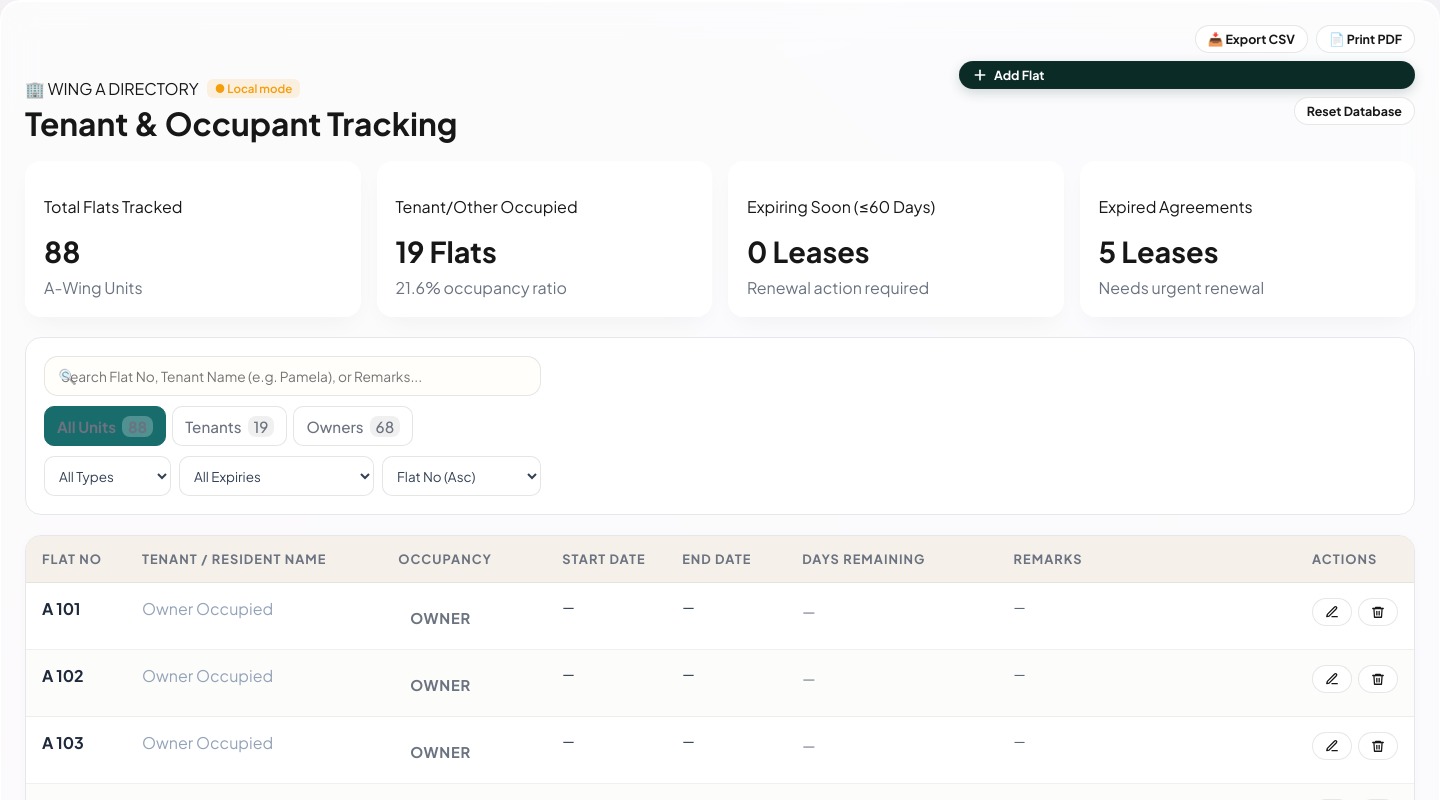
Test: TenantTracker - Admin Actions Modals › closes modal when cancel is clicked
The image size is (1440, 800).
Click the button "Add Flat" at [1019, 75], box [959, 61, 1415, 89]
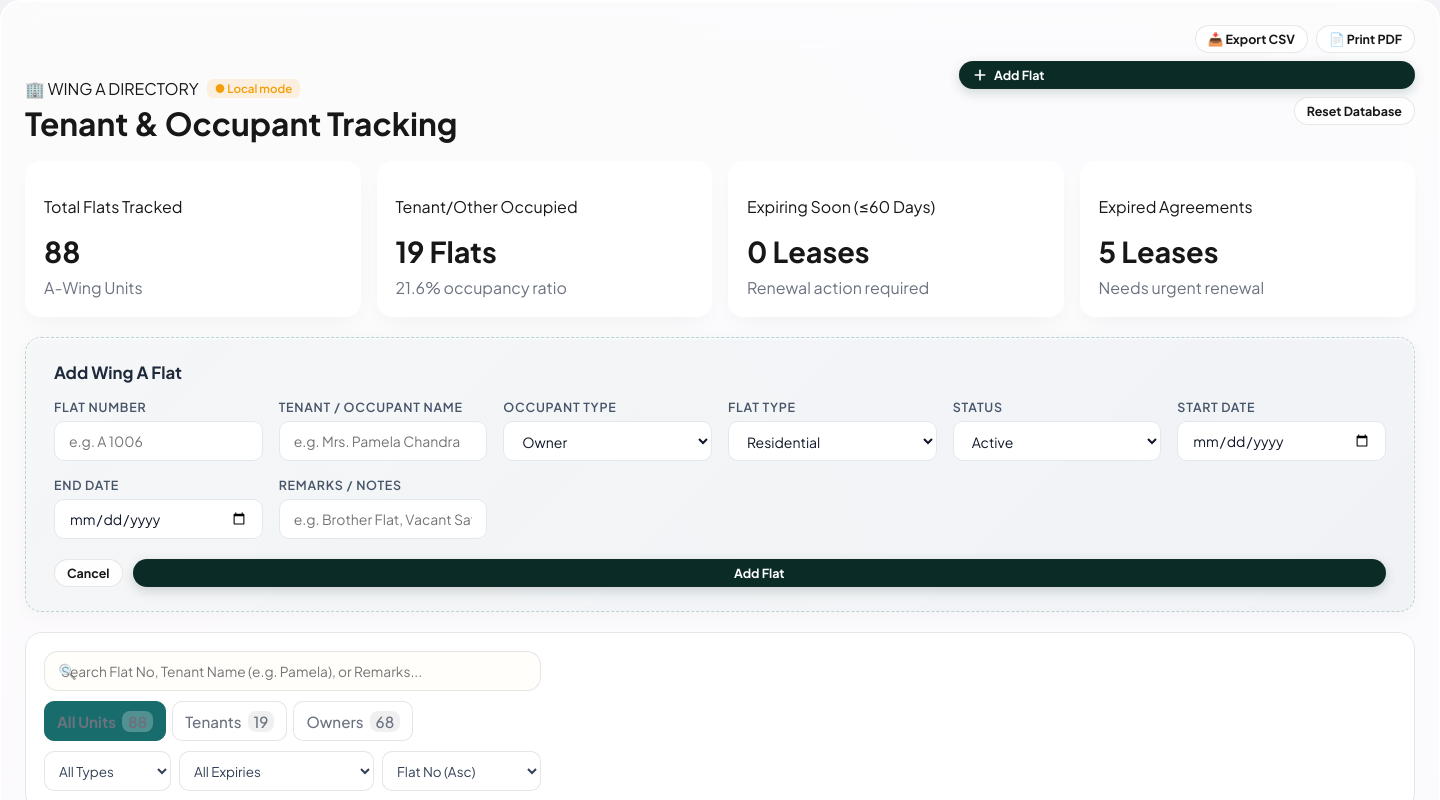
Click the button "Cancel" at [88, 573], box [54, 559, 122, 587]
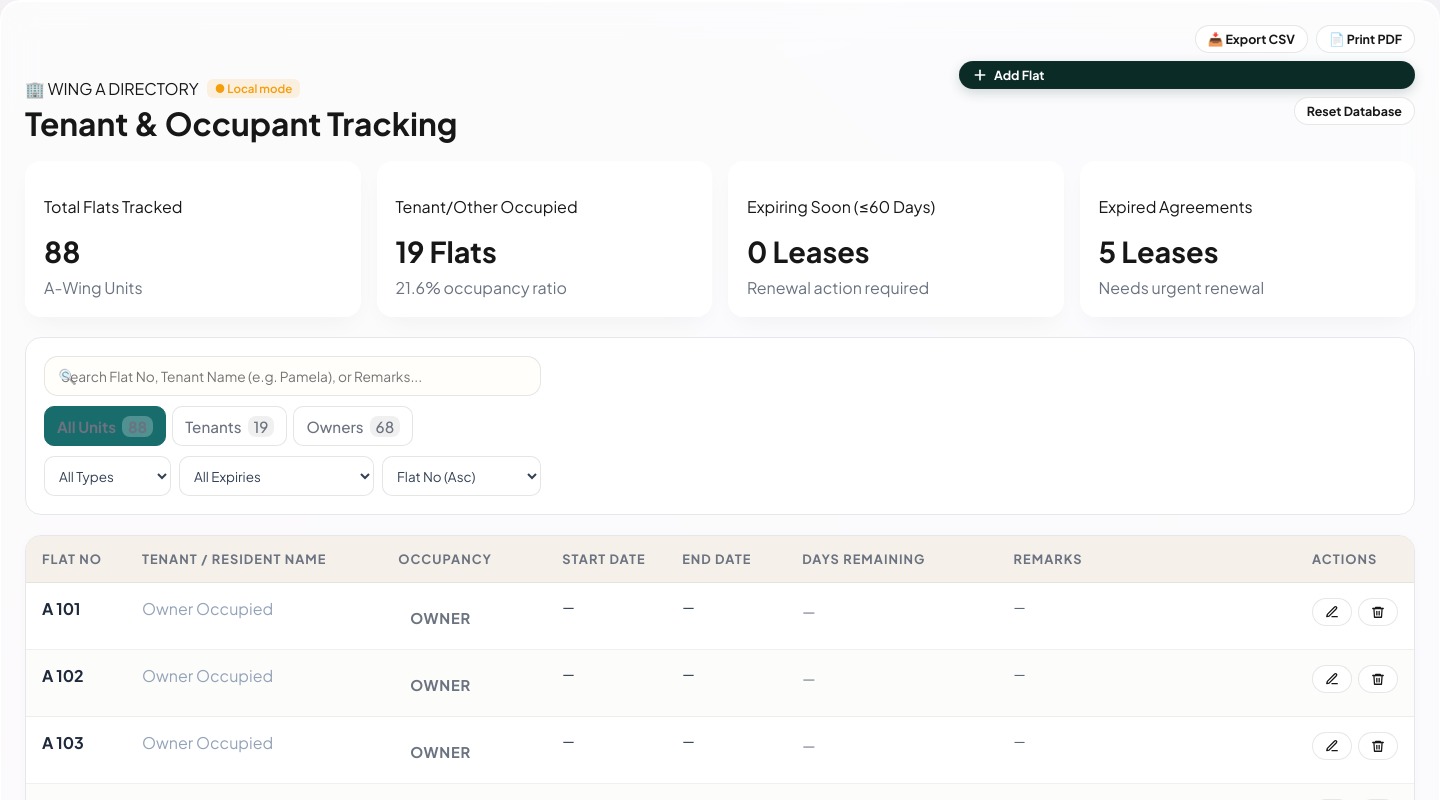
Now the heading "Add Wing A Flat" is gone
